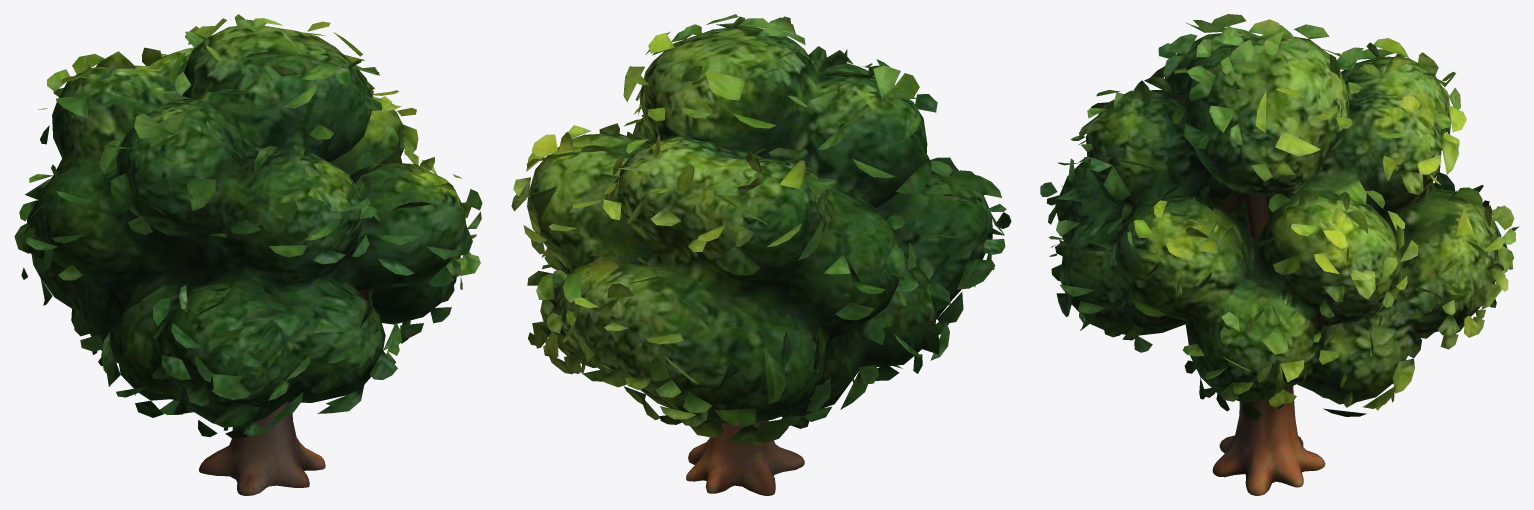
Rendered from tree_green.glb.
3 views of the same model, side by side, from view 1: azimuth 30°, elevation 25°; view 2: azimuth 150°, elevation 25°; view 3: azimuth 270°, elevation 25° (orthographic). The views are drawn at different scales.
Size of the model in its own units: 5.99 by 6.38 by 6.38.
Materials: 1 (1 with a texture image).
